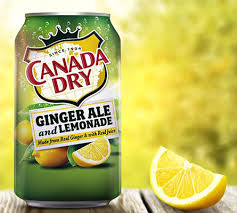Lata: (10, 9, 124, 208)
